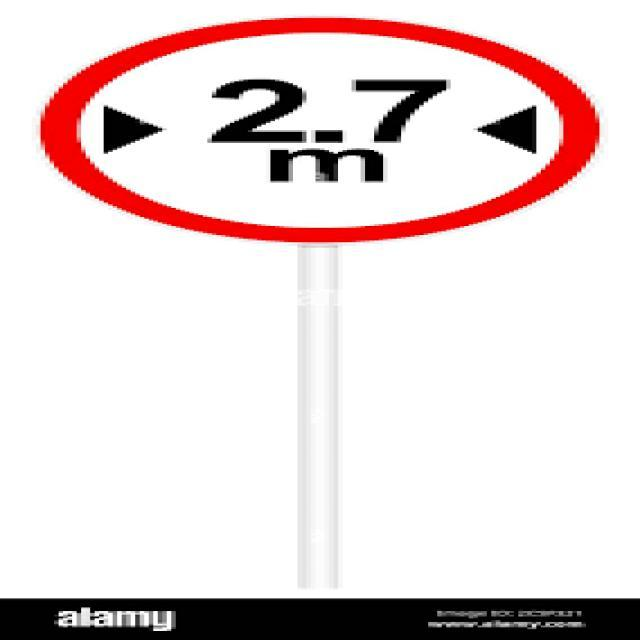width limit: (34, 17, 596, 239)
